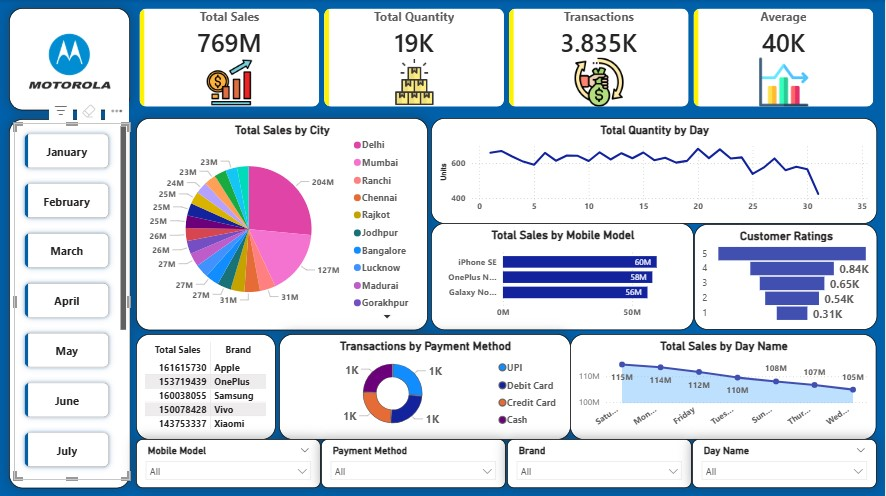

The dashboard page shown, as its layout file describes it:
{"tool":"powerbi","page":{"name":"Page 1","canvas":[1280,720],"ordinal":0},"visuals":[{"type":"shape","box":[13.4,13.4,174.7,147.8],"z":0},{"type":"image","box":[20.2,25.2,161.3,131],"z":1000},{"type":"shape","box":[13.4,173,174.7,534.2],"z":2000},{"type":"advancedSlicerVisual","fields":{"Values":["Sales_data.Date.Variation.Date Hierarchy.Month"]},"box":[20.2,179.7,168,515.7],"z":3000},{"type":"cardVisual","fields":{"Data":["Sales_data.Total Sales","Sales_data.Total Quantity","Sales_data.Transactions","Sales_data.Average"]},"box":[196.5,8.4,1071.7,152.9],"z":4000},{"type":"pieChart","fields":{"Category":["Sales_data.City"],"Y":["Sales_data.Total Sales"]},"box":[196.5,171.3,421.6,307.4],"z":4001},{"type":"lineChart","fields":{"Y":["Sales_data.Total Quantity"],"Category":["Sales_data.Date.Variation.Date Hierarchy.Month","Sales_data.Date.Variation.Date Hierarchy.Day"]},"box":[623.2,171.3,645,152.9],"z":4002},{"type":"clusteredBarChart","fields":{"Category":["Sales_data.Mobile Model"],"Y":["Sales_data.Total Sales"]},"box":[623.2,324.2,379.6,154.5],"z":4003},{"type":"donutChart","fields":{"Category":["Sales_data.Payment Method"],"Y":["Sales_data.Transactions"]},"box":[403.1,483.8,421.6,152.9],"z":4004},{"type":"funnel","title":" Customer Ratings ","fields":{"Category":["Sales_data.Customer Ratings"],"Y":["CountNonNull(Sales_data.Customer Ratings)"]},"box":[1002.8,325.9,265.4,152.9],"z":4005},{"type":"areaChart","fields":{"Category":["Sales_data.Day Name"],"Y":["Sales_data.Total Sales"]},"box":[824.8,483.8,443.5,152.9],"z":4006},{"type":"tableEx","fields":{"Values":["Sales_data.Total Sales","Sales_data.Brand"]},"box":[196.5,483.8,201.6,152.9],"z":4007},{"type":"slicer","fields":{"Values":["Sales_data.Mobile Model"]},"box":[196.5,636.6,267.1,70.6],"z":4008},{"type":"slicer","fields":{"Values":["Sales_data.Payment Method"]},"box":[463.6,636.6,267.1,70.6],"z":4009},{"type":"slicer","fields":{"Values":["Sales_data.Brand"]},"box":[732.4,636.6,267.1,70.6],"z":4010},{"type":"slicer","fields":{"Values":["Sales_data.Day Name"]},"box":[1001.2,636.6,267.1,70.6],"z":4011}]}

Visuals, with their boxes in screenshot pixels (x1, y1, x2, y2), scaled from the page's 1280x720 canvas onto the 886x496 screenshot:
shape: (x1=9, y1=9, x2=130, y2=111)
image: (x1=14, y1=17, x2=126, y2=108)
shape: (x1=9, y1=119, x2=130, y2=487)
advancedSlicerVisual - Sales_data.Date.Variation.Date Hierarchy.Month: (x1=14, y1=124, x2=130, y2=479)
cardVisual - Sales_data.Total Sales x Sales_data.Total Quantity: (x1=136, y1=6, x2=878, y2=111)
pieChart - Sales_data.City x Sales_data.Total Sales: (x1=136, y1=118, x2=428, y2=330)
lineChart - Sales_data.Total Quantity x Sales_data.Date.Variation.Date Hierarchy.Month: (x1=431, y1=118, x2=878, y2=223)
clusteredBarChart - Sales_data.Mobile Model x Sales_data.Total Sales: (x1=431, y1=223, x2=694, y2=330)
donutChart - Sales_data.Payment Method x Sales_data.Transactions: (x1=279, y1=333, x2=571, y2=439)
" Customer Ratings " funnel: (x1=694, y1=225, x2=878, y2=330)
areaChart - Sales_data.Day Name x Sales_data.Total Sales: (x1=571, y1=333, x2=878, y2=439)
tableEx - Sales_data.Total Sales x Sales_data.Brand: (x1=136, y1=333, x2=276, y2=439)
slicer - Sales_data.Mobile Model: (x1=136, y1=439, x2=321, y2=487)
slicer - Sales_data.Payment Method: (x1=321, y1=439, x2=506, y2=487)
slicer - Sales_data.Brand: (x1=507, y1=439, x2=692, y2=487)
slicer - Sales_data.Day Name: (x1=693, y1=439, x2=878, y2=487)
